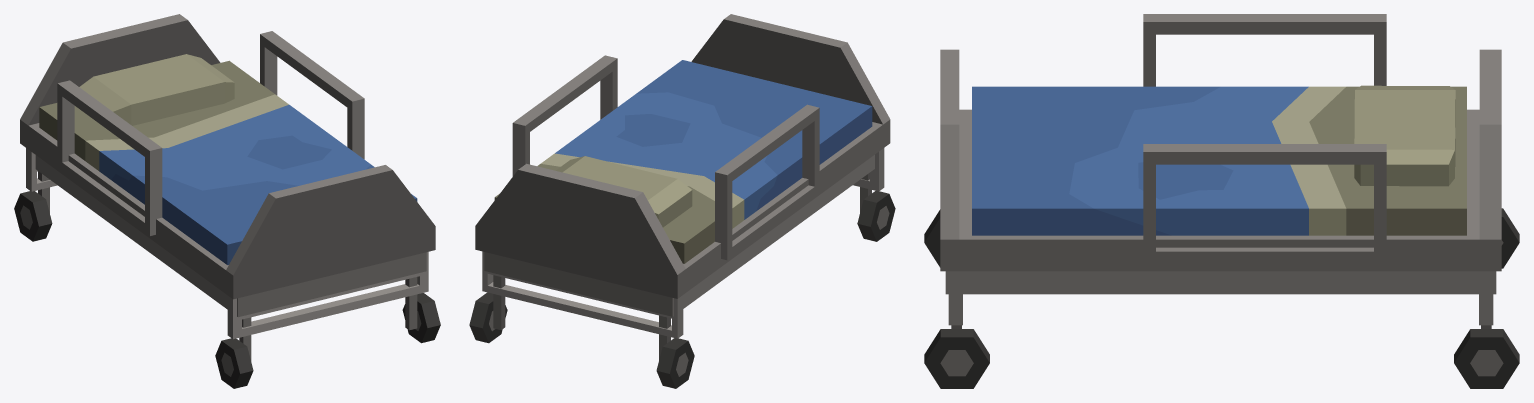
The model's file is AI_Prop_HospitalBed.fbx.
The picture shows the model from 3 angles, left to right: view 1: azimuth 30°, elevation 25°; view 2: azimuth 150°, elevation 25°; view 3: azimuth 270°, elevation 25°; orthographic projection. The views are drawn at different scales.
Visible parts, largest first — view 1: AI_Prop_HospitalBed; view 2: AI_Prop_HospitalBed; view 3: AI_Prop_HospitalBed.
Part boxes in pixels (x1,y1,x2,y2): AI_Prop_HospitalBed: (14,14,440,388); AI_Prop_HospitalBed: (469,14,895,388); AI_Prop_HospitalBed: (924,14,1519,388).
Size of the model in its own units: 2.3 by 1.87 by 4.19.
